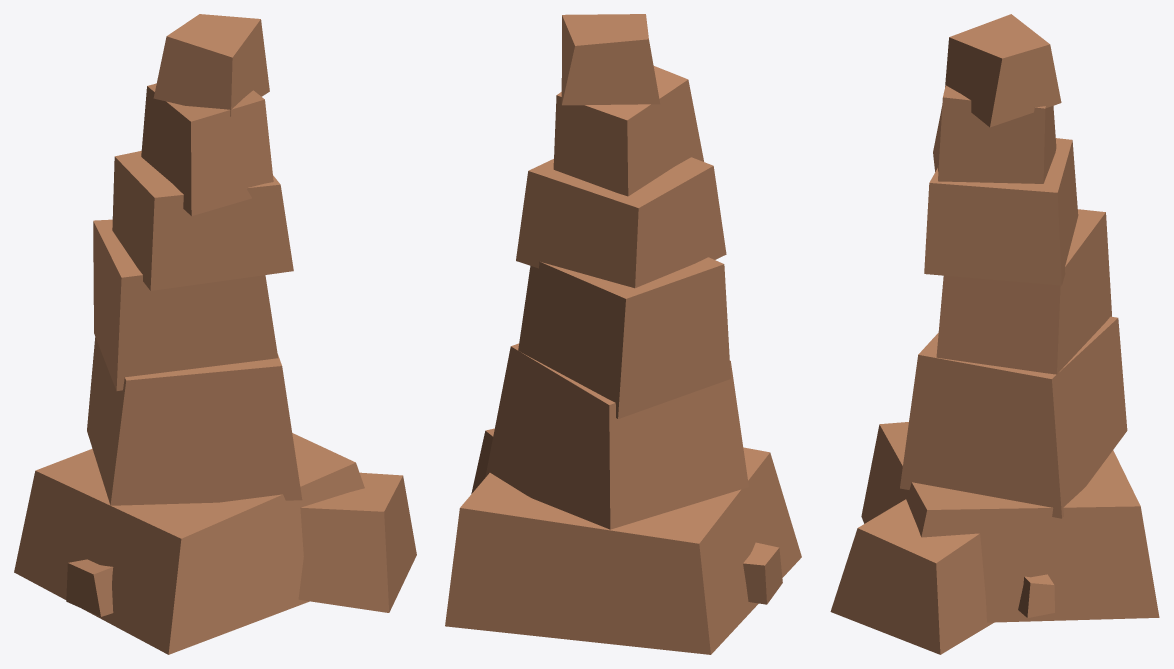
The model's file is crag.glb.
The picture shows the model from 3 angles, left to right: view 1: azimuth 30°, elevation 25°; view 2: azimuth 150°, elevation 25°; view 3: azimuth 270°, elevation 25°; orthographic projection. The views are drawn at different scales.
Visible parts, largest first — view 1: crag; view 2: crag; view 3: crag.
Boxes of the visible parts, bbox=[...] form: crag: bbox=[14, 14, 416, 654]; crag: bbox=[445, 14, 801, 654]; crag: bbox=[830, 14, 1159, 654].
Size of the model in its own units: 2.21 by 3.6 by 1.98.
